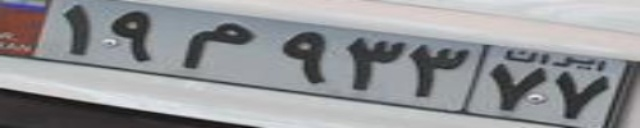1: (60, 4, 91, 55)
3: (408, 44, 469, 96), (344, 39, 404, 91)
7: (553, 70, 612, 120), (488, 64, 549, 112)
9: (282, 31, 325, 84), (109, 10, 148, 63)
mim: (180, 21, 253, 71)
